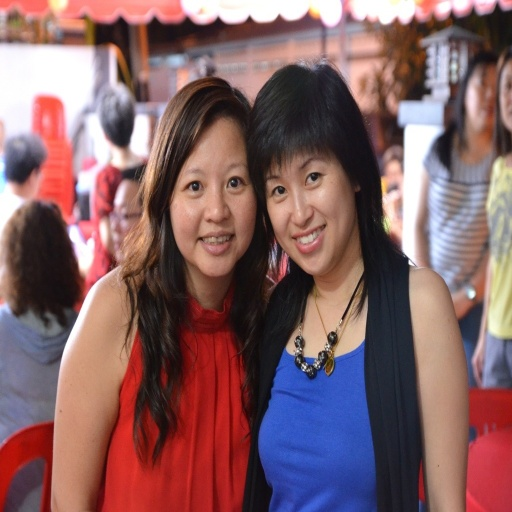hand: (471, 342, 482, 385), (451, 291, 465, 318)
